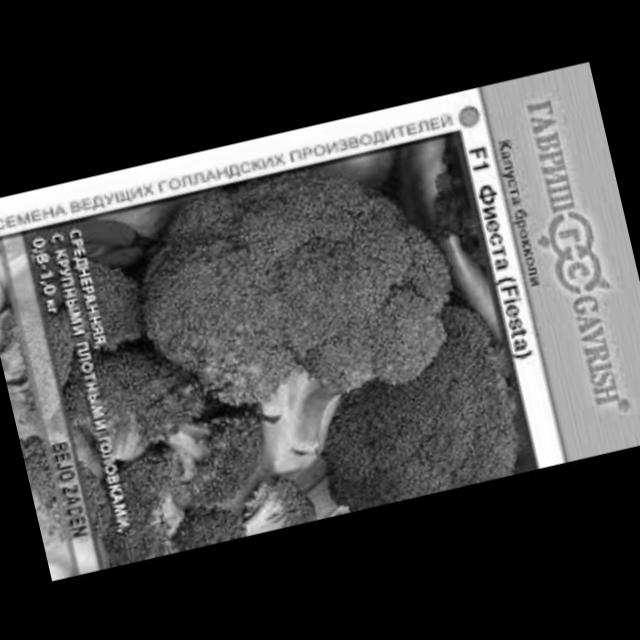broccoli: (114, 126, 483, 492), (34, 316, 266, 571), (332, 302, 540, 504), (34, 237, 163, 366)
